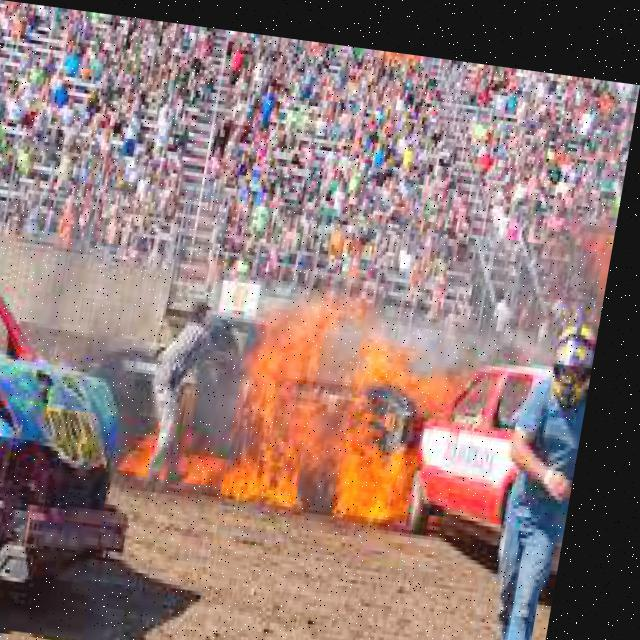Fire: (239, 286, 473, 526), (126, 398, 250, 503)
